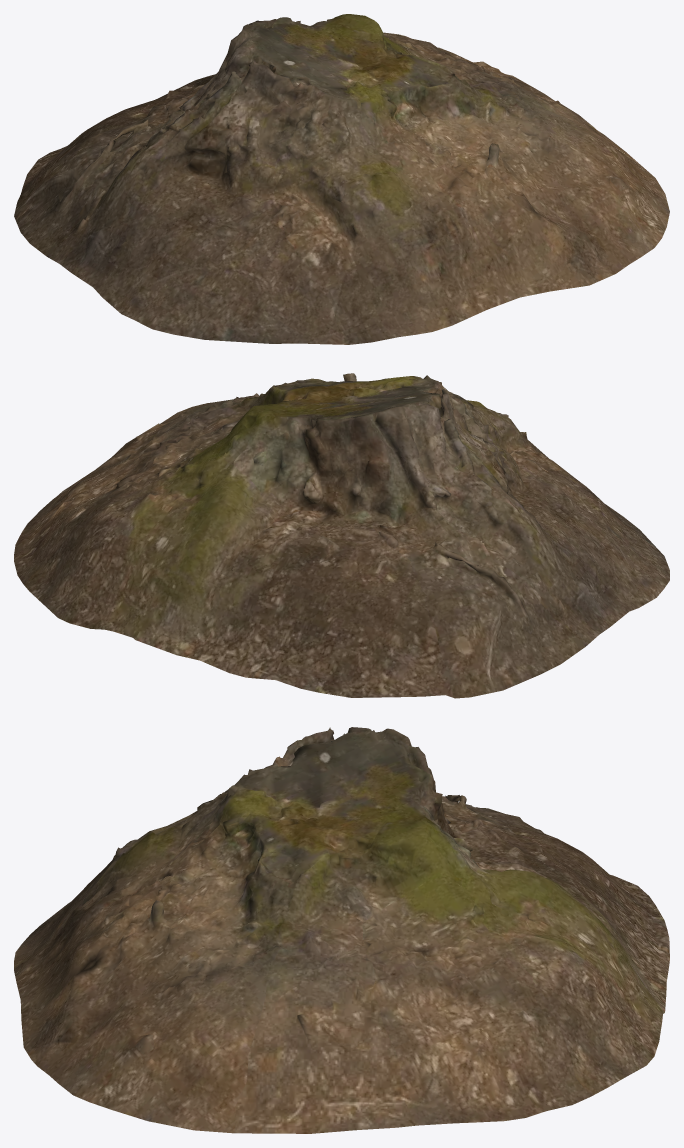
The model's file is stump-2.glb.
3 renders of one model, top to bottom at view 1: azimuth 30°, elevation 25°; view 2: azimuth 150°, elevation 25°; view 3: azimuth 270°, elevation 25°, orthographic. The views are drawn at different scales.
Parts seen in each view (by area): view 1: tree_stump_02; view 2: tree_stump_02; view 3: tree_stump_02.
Boxes of the visible parts, box(x1,y1,x2,y2) form: tree_stump_02: box(14, 14, 669, 344); tree_stump_02: box(14, 373, 669, 698); tree_stump_02: box(14, 727, 669, 1133).
Bounding box in the file's own units: 1.52 × 0.5214 × 1.39.
Materials: 1 (1 with a texture image).
